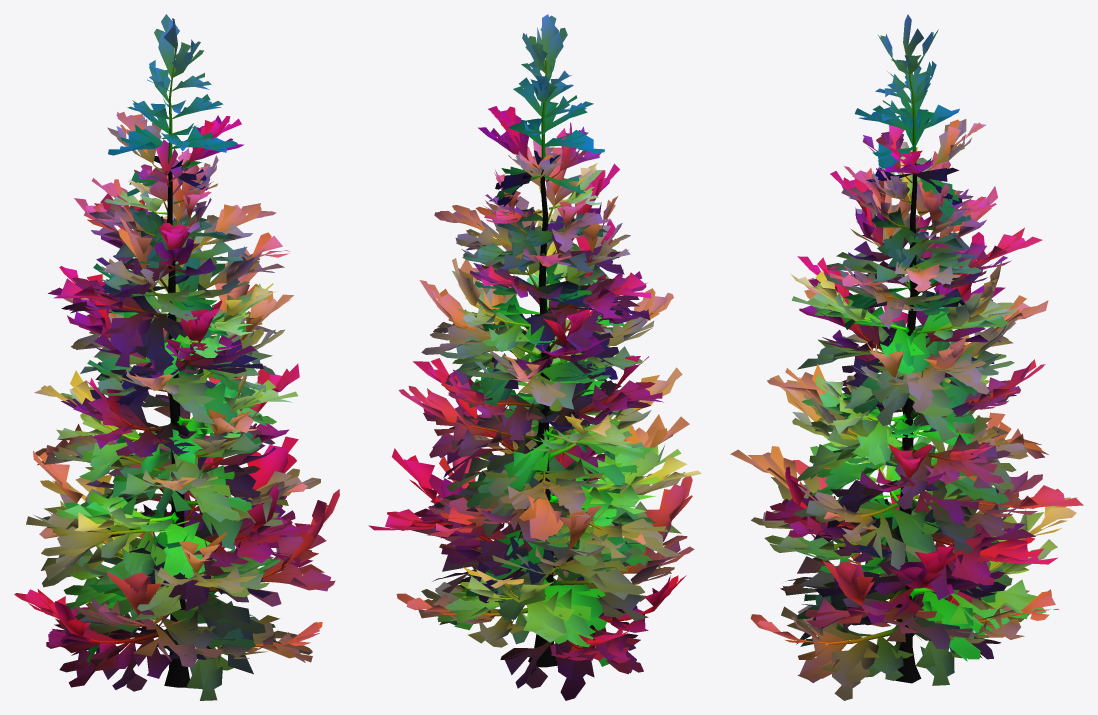
File: SM_SilverFir_M_01.fbx
3 views of the same model, side by side, from view 1: azimuth 30°, elevation 25°; view 2: azimuth 150°, elevation 25°; view 3: azimuth 270°, elevation 25° (orthographic). The views are drawn at different scales.
Visible parts, largest first — view 1: SM_SilverFir_M_01_LOD0; view 2: SM_SilverFir_M_01_LOD0; view 3: SM_SilverFir_M_01_LOD0.
Part boxes in pixels (bbox=[...]): SM_SilverFir_M_01_LOD0: bbox=[14, 14, 339, 700]; SM_SilverFir_M_01_LOD0: bbox=[368, 14, 701, 700]; SM_SilverFir_M_01_LOD0: bbox=[730, 14, 1083, 700].
Bounding box in the file's own units: 343 × 381 × 786.
